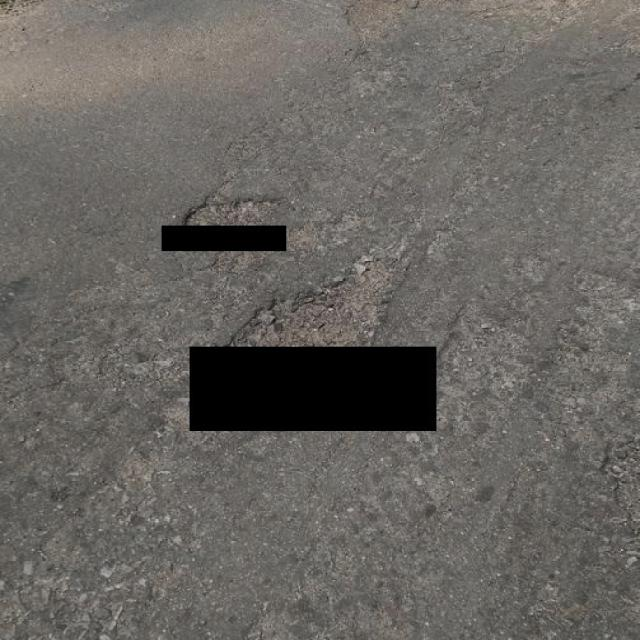road-pothole: (219, 223, 428, 344)
